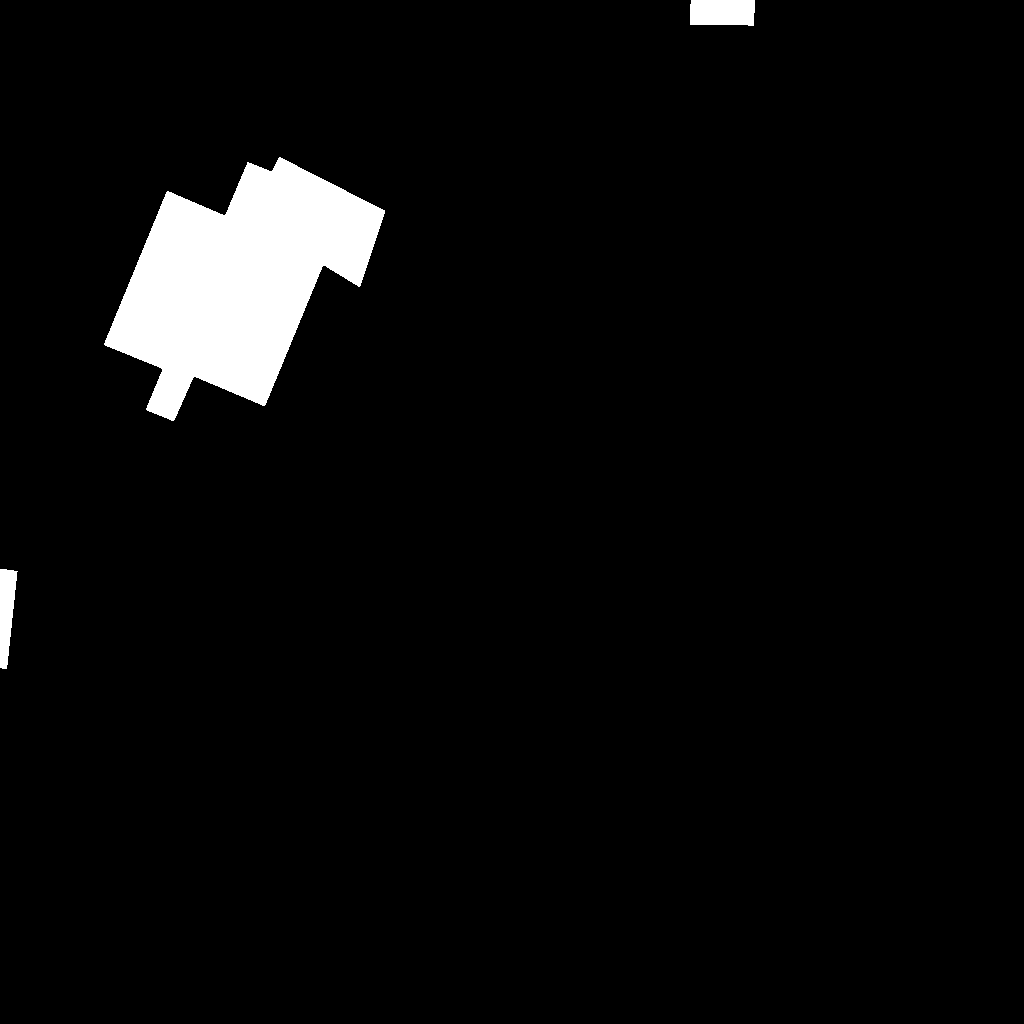building: (104, 157, 386, 422), (0, 569, 18, 670), (690, 0, 756, 26)
